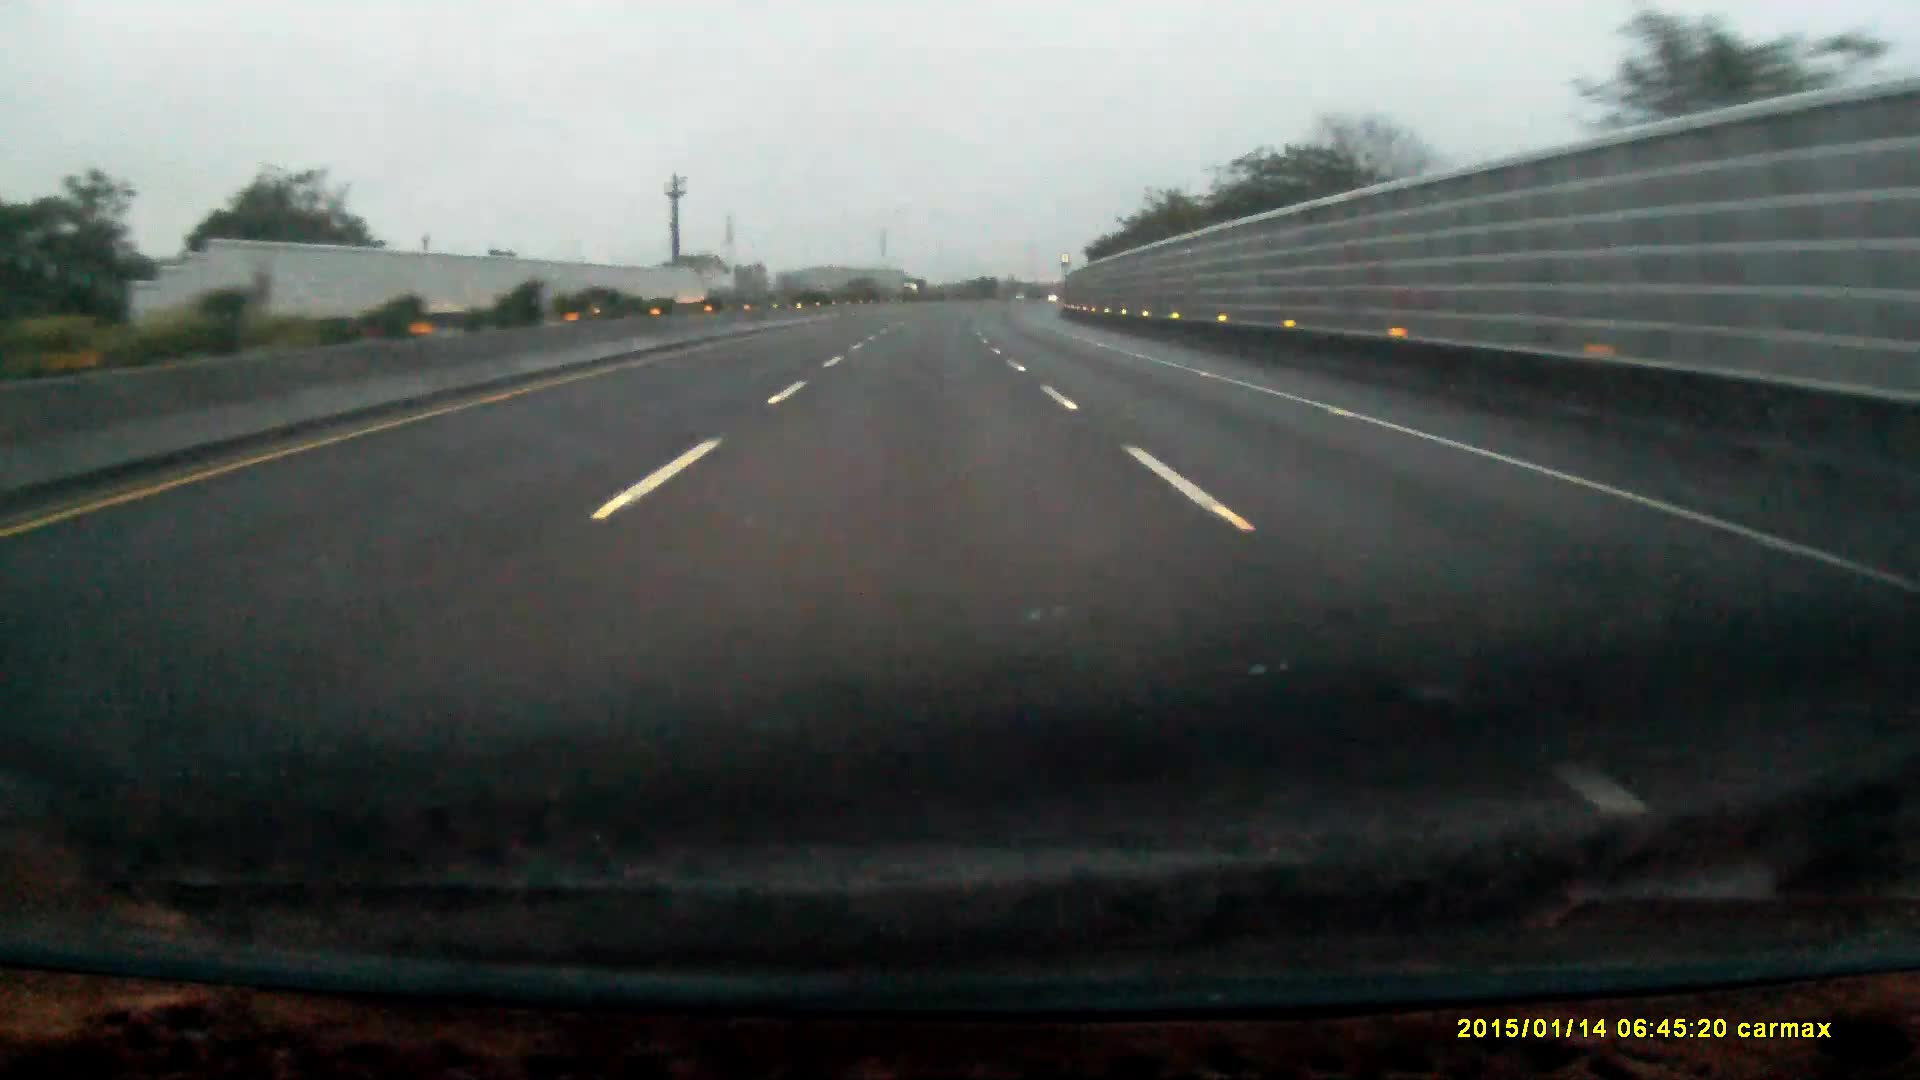vehicle: (901, 280, 926, 303)
